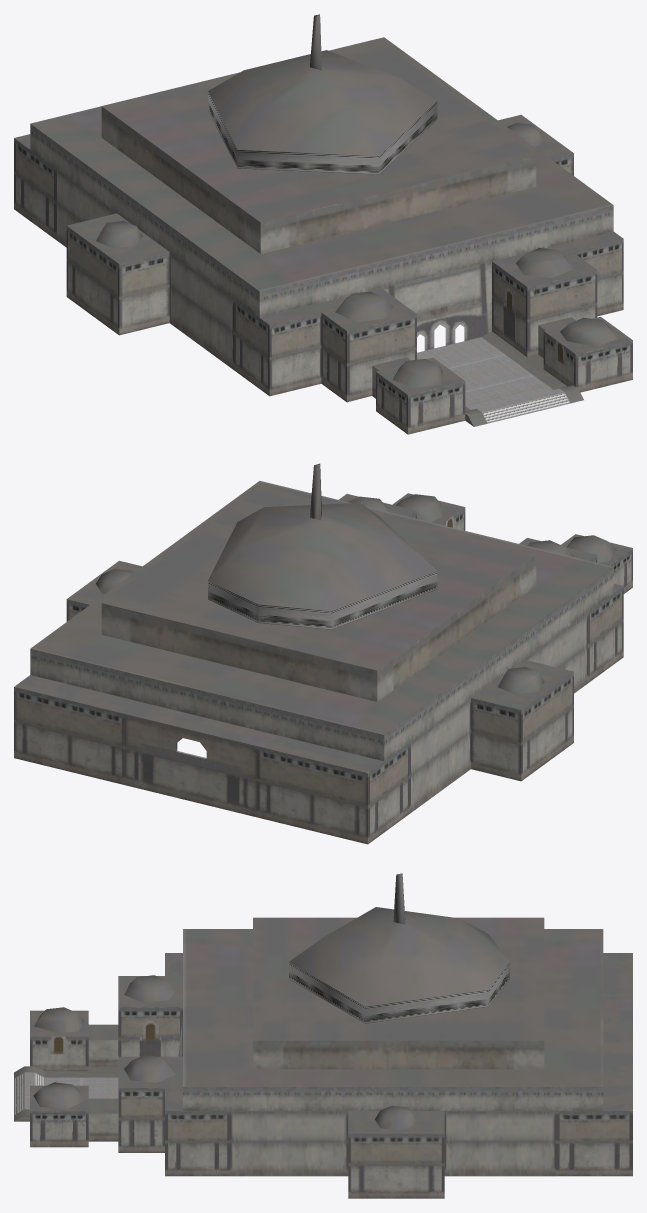
File: mun_all_capitol_s01_r0_mesh_l4.fbx
The picture shows the model from 3 angles, top to bottom: view 1: azimuth 30°, elevation 25°; view 2: azimuth 150°, elevation 25°; view 3: azimuth 270°, elevation 25°; orthographic projection. The views are drawn at different scales.
Parts seen in each view (by area): view 1: mesh_node; view 2: mesh_node; view 3: mesh_node.
Part boxes in pixels (<box>): mesh_node: <box>14,14,632,434</box>; mesh_node: <box>14,463,632,844</box>; mesh_node: <box>14,873,632,1198</box>.
Size of the model in its own units: 82.46 by 42.14 by 106.
